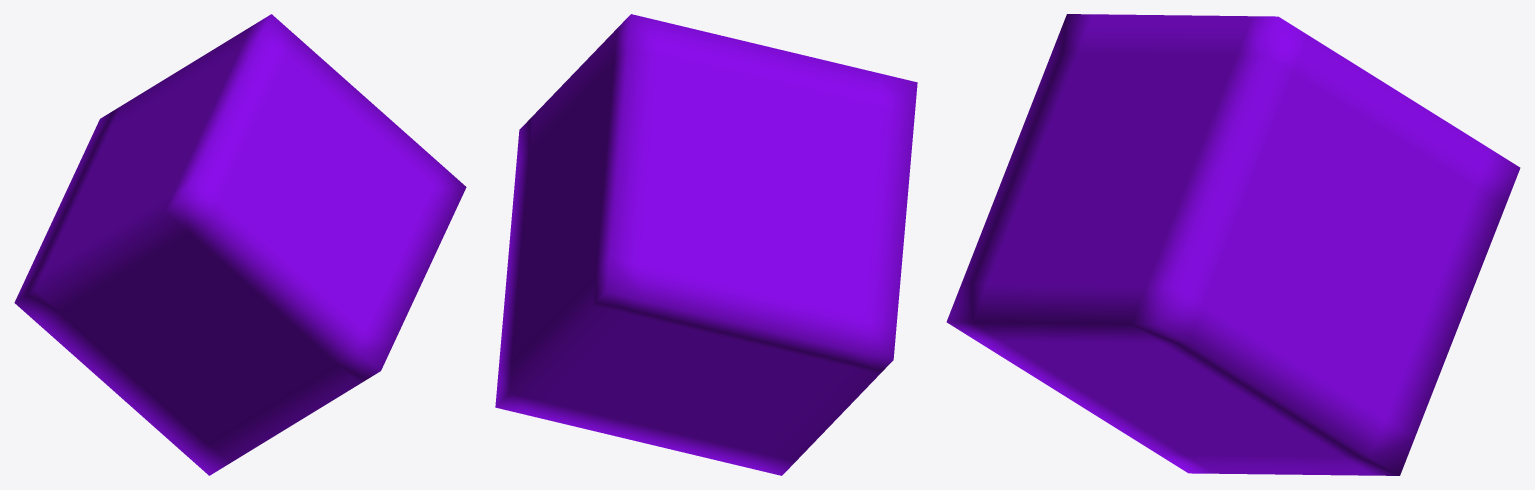
Rendered from cubo3d.glb.
The picture shows the model from 3 angles, left to right: view 1: azimuth 30°, elevation 25°; view 2: azimuth 150°, elevation 25°; view 3: azimuth 270°, elevation 25°; orthographic projection. The views are drawn at different scales.
Visible parts, largest first — view 1: Cube; view 2: Cube; view 3: Cube.
Boxes of the visible parts, x1,y1,x2,y2 form: Cube: (14, 14, 466, 475); Cube: (495, 14, 917, 475); Cube: (946, 14, 1520, 475).
Size of the model in its own units: 3.31 by 3.32 by 3.34.
